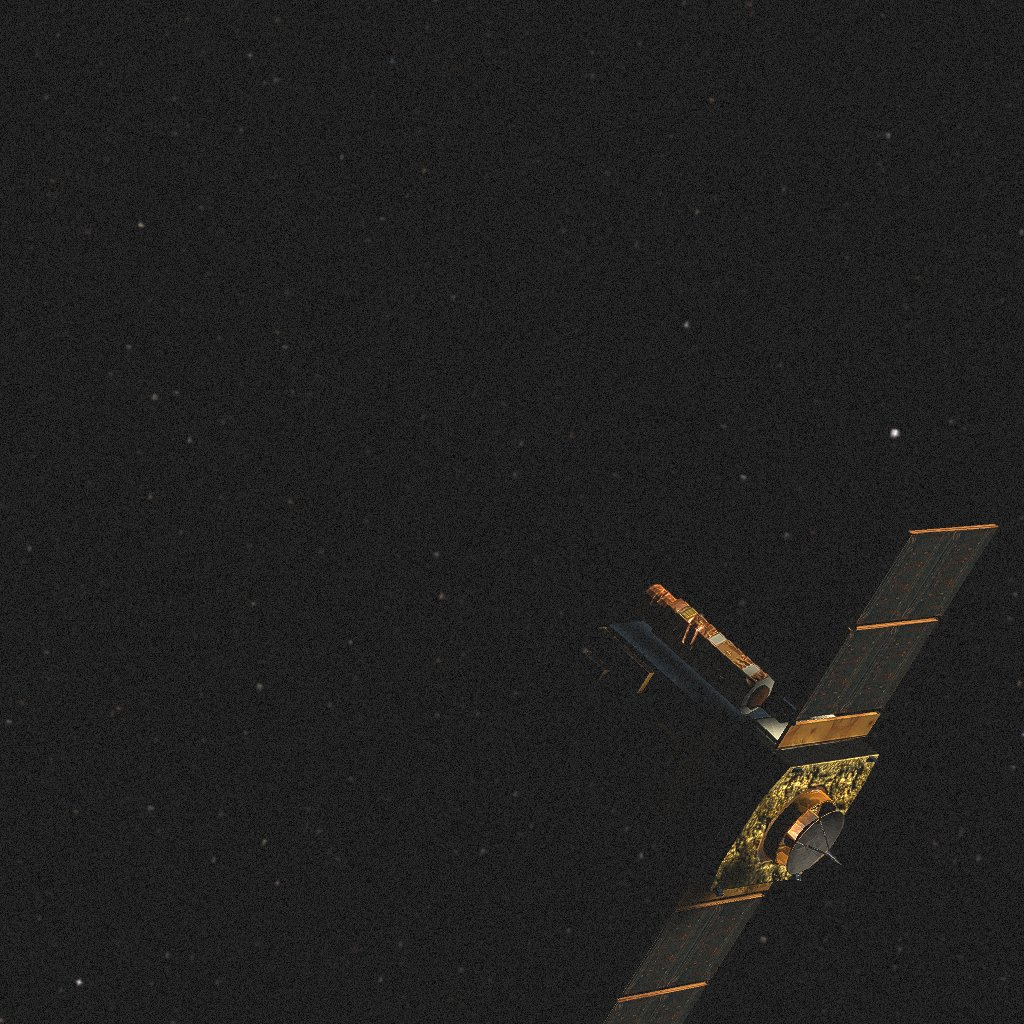soho: (561, 524, 998, 1024)
